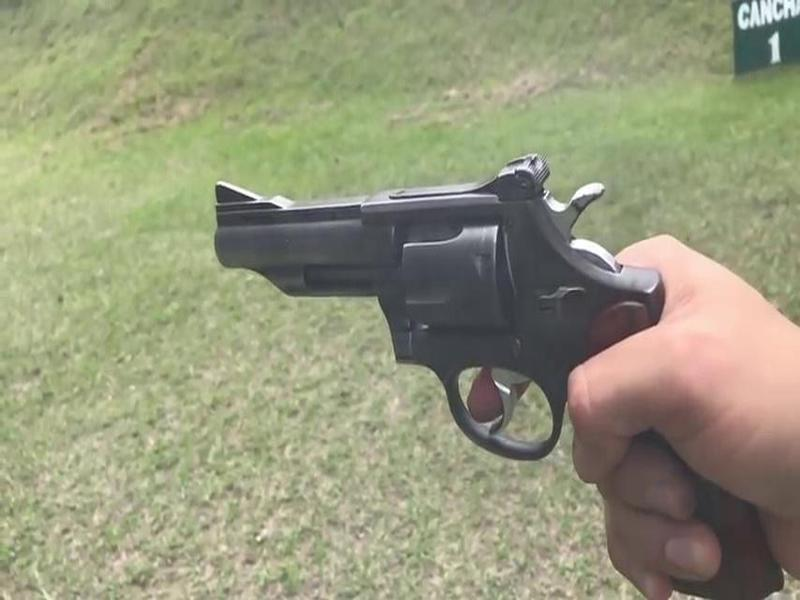Revolver: (201, 148, 676, 525)
